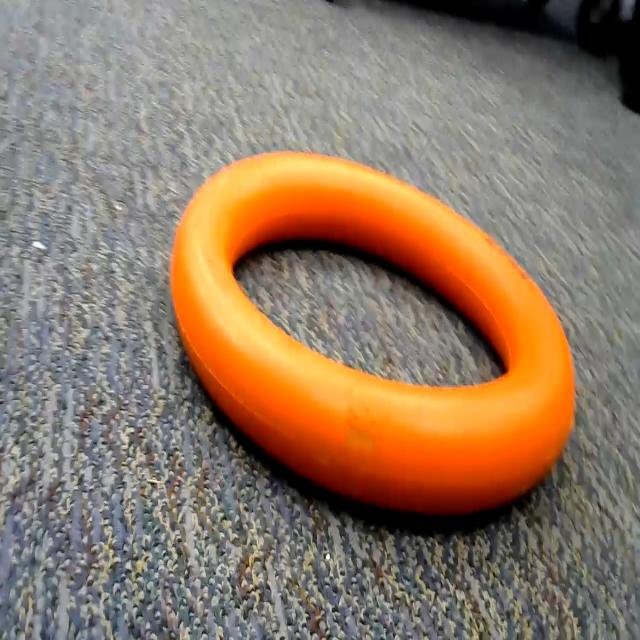note: (166, 137, 610, 538)
